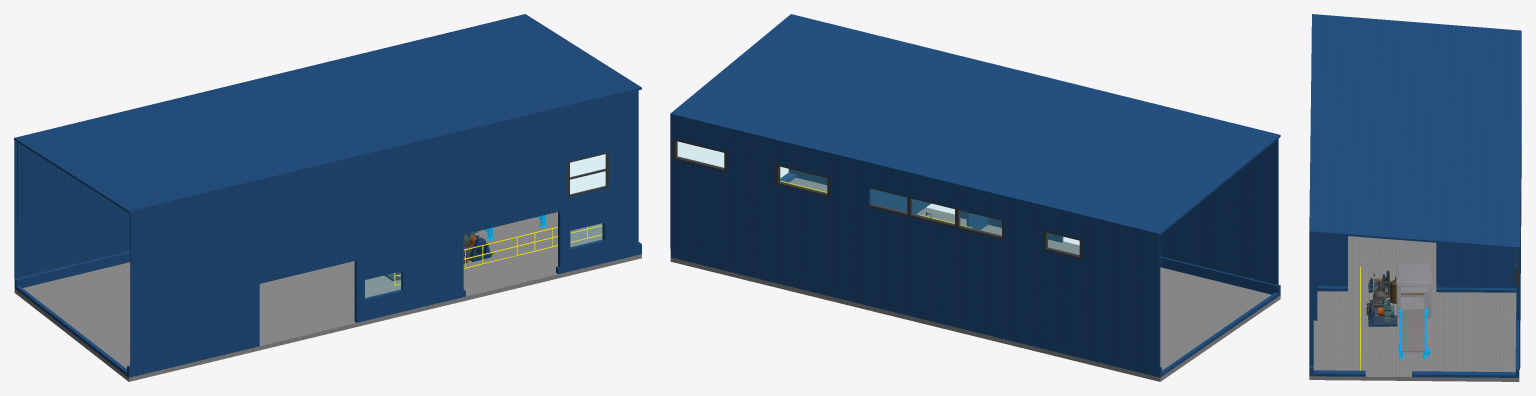
File: washery-process-1.glb
The picture shows the model from 3 angles, left to right: view 1: azimuth 30°, elevation 25°; view 2: azimuth 150°, elevation 25°; view 3: azimuth 270°, elevation 25°; orthographic projection. The views are drawn at different scales.
Visible parts, largest first — view 1: Object_2, Object_3, Object_6, Object_4_1, Hardware_M_Pumps_0, Object_4; view 2: Object_2, Object_3, Object_6, Object_4; view 3: Object_2, Object_3, New_object_DefaultMaterial_0, Hardware_M_Pumps_0, Hardware_M_Hardware_01_0.
Part boxes in pixels (box(x1,y1,x2,y2)): Object_2: box(14, 14, 641, 377); Object_3: box(14, 212, 641, 381); Object_6: box(365, 154, 605, 297); Object_4_1: box(394, 225, 602, 285); Hardware_M_Pumps_0: box(384, 231, 492, 281); Object_4: box(567, 152, 608, 196); Object_2: box(670, 14, 1280, 377); Object_3: box(670, 177, 1280, 381); Object_6: box(677, 142, 1078, 254); Object_4: box(672, 139, 1081, 259); Object_2: box(1309, 14, 1521, 377); Object_3: box(1309, 236, 1519, 381); New_object_DefaultMaterial_0: box(1396, 263, 1431, 358); Hardware_M_Pumps_0: box(1368, 270, 1397, 326); Hardware_M_Hardware_01_0: box(1366, 276, 1401, 315).
Bounding box in the file's own units: 29.3 × 9.27 × 11.99.
Materials: 10 (10 with a texture image).
